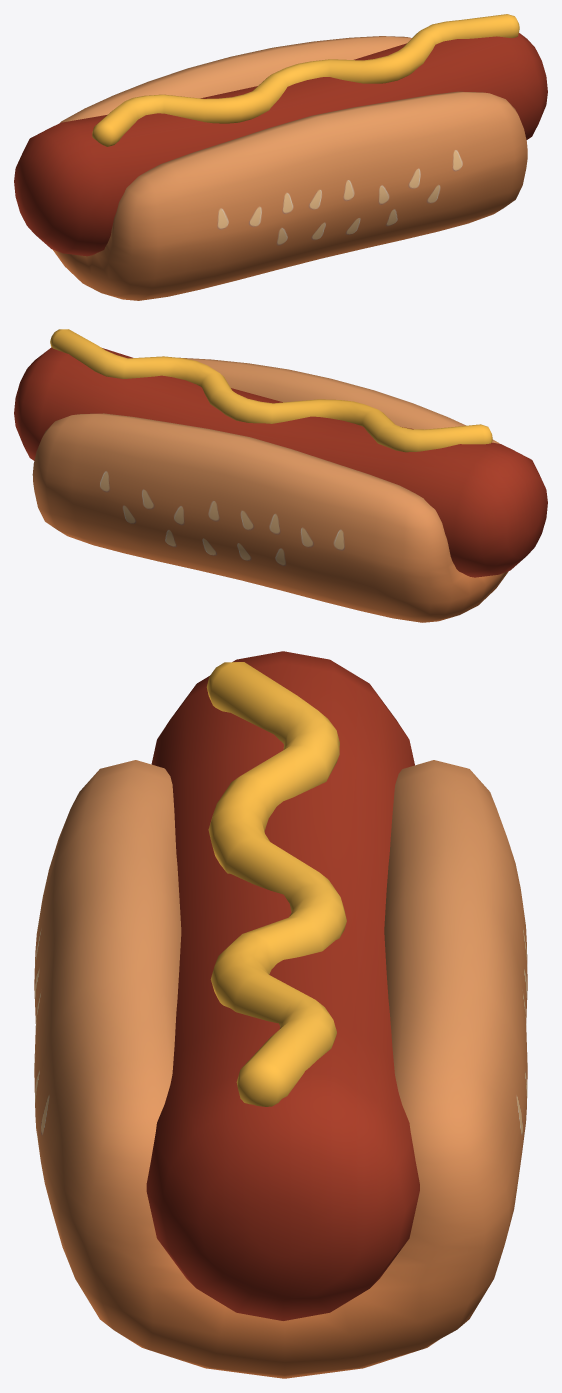
The model's file is Hotdog.fbx.
The picture shows the model from 3 angles, top to bottom: view 1: azimuth 30°, elevation 25°; view 2: azimuth 150°, elevation 25°; view 3: azimuth 270°, elevation 25°; orthographic projection. The views are drawn at different scales.
Visible parts, largest first — view 1: Hotdog; view 2: Hotdog; view 3: Hotdog.
Part boxes in pixels (<box>): Hotdog: <box>14,14,547,300</box>; Hotdog: <box>14,329,547,622</box>; Hotdog: <box>34,651,527,1378</box>.
Size of the model in its own units: 20.83 by 7.31 by 8.82.
